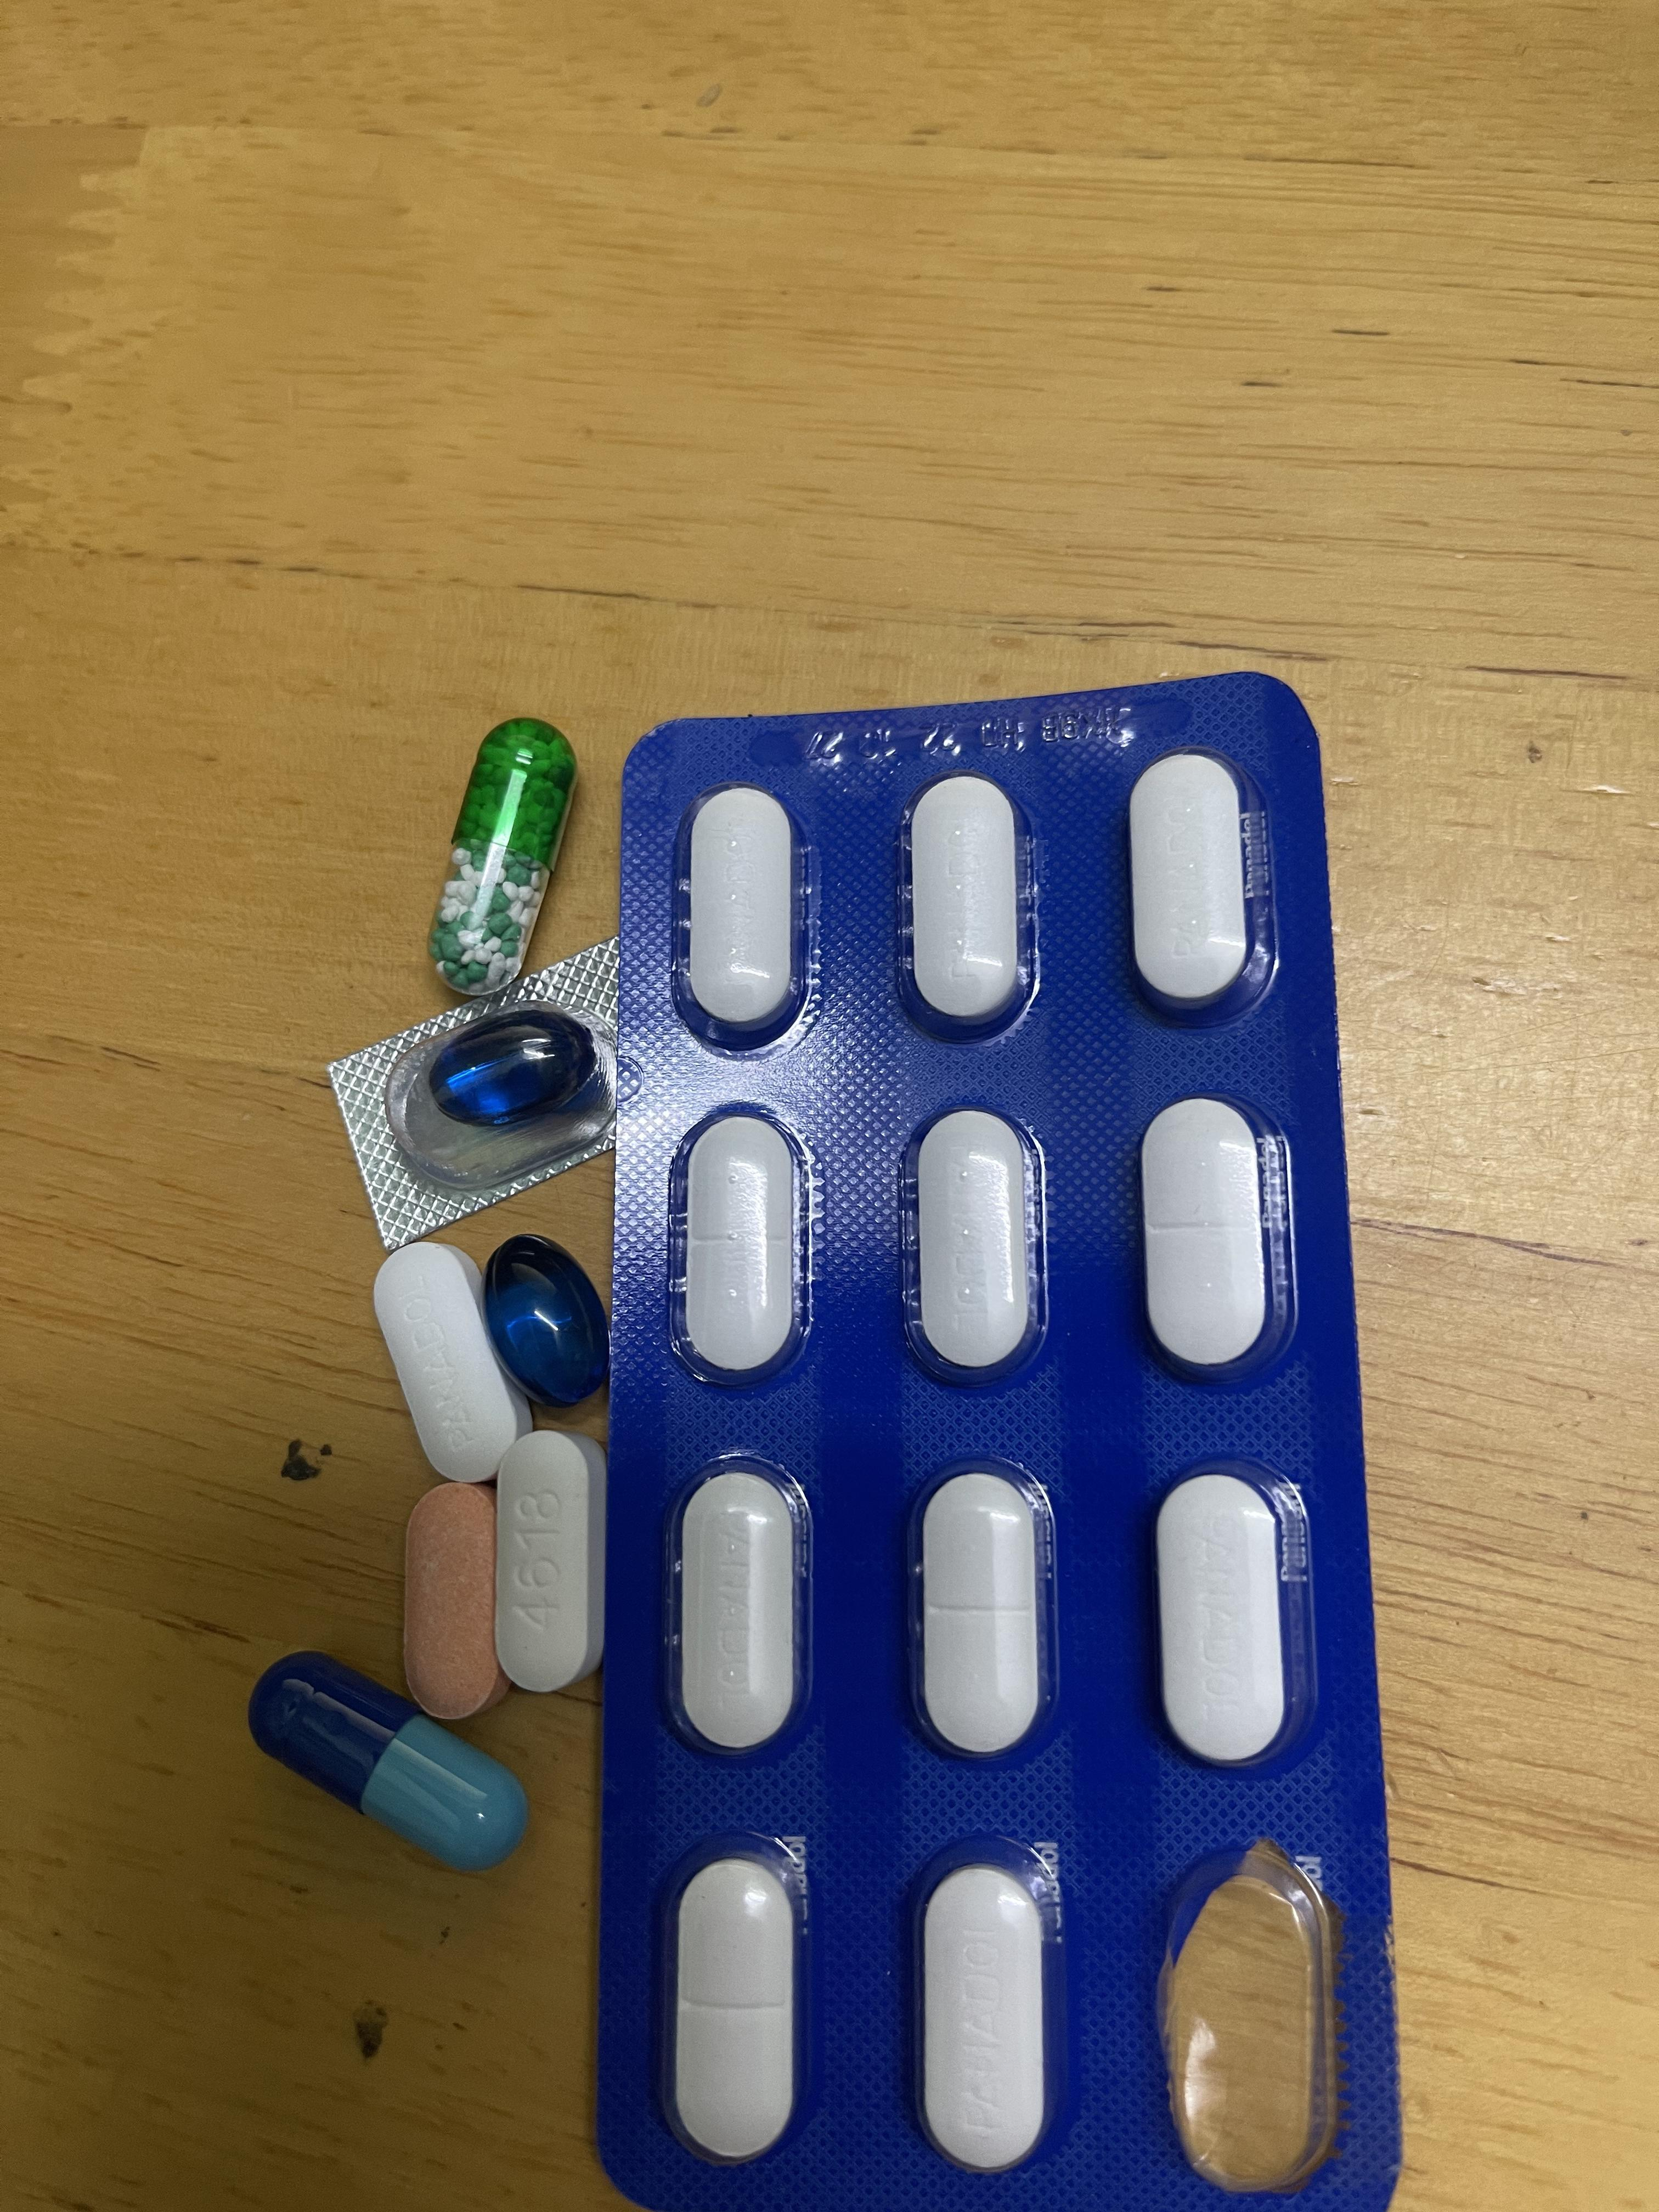Lincomyxin_500mg: (483, 1233, 613, 1404), (432, 1014, 589, 1125)
Loratadine_10mg: (401, 1482, 498, 1714)
Paracetamol_350mg: (901, 1841, 1065, 2179), (653, 1836, 809, 2172), (904, 1461, 1058, 1764), (1138, 1094, 1295, 1386), (662, 1460, 810, 1757), (901, 1106, 1053, 1385), (666, 1106, 816, 1383), (1157, 1474, 1290, 1768), (373, 1244, 532, 1482), (1126, 751, 1255, 1024), (904, 775, 1026, 1036), (685, 789, 800, 1042)
Paracetamol_500mg: (497, 1440, 601, 1693)
Paracetamol_650mg: (430, 721, 575, 988)
pill: (254, 1667, 518, 1867)
